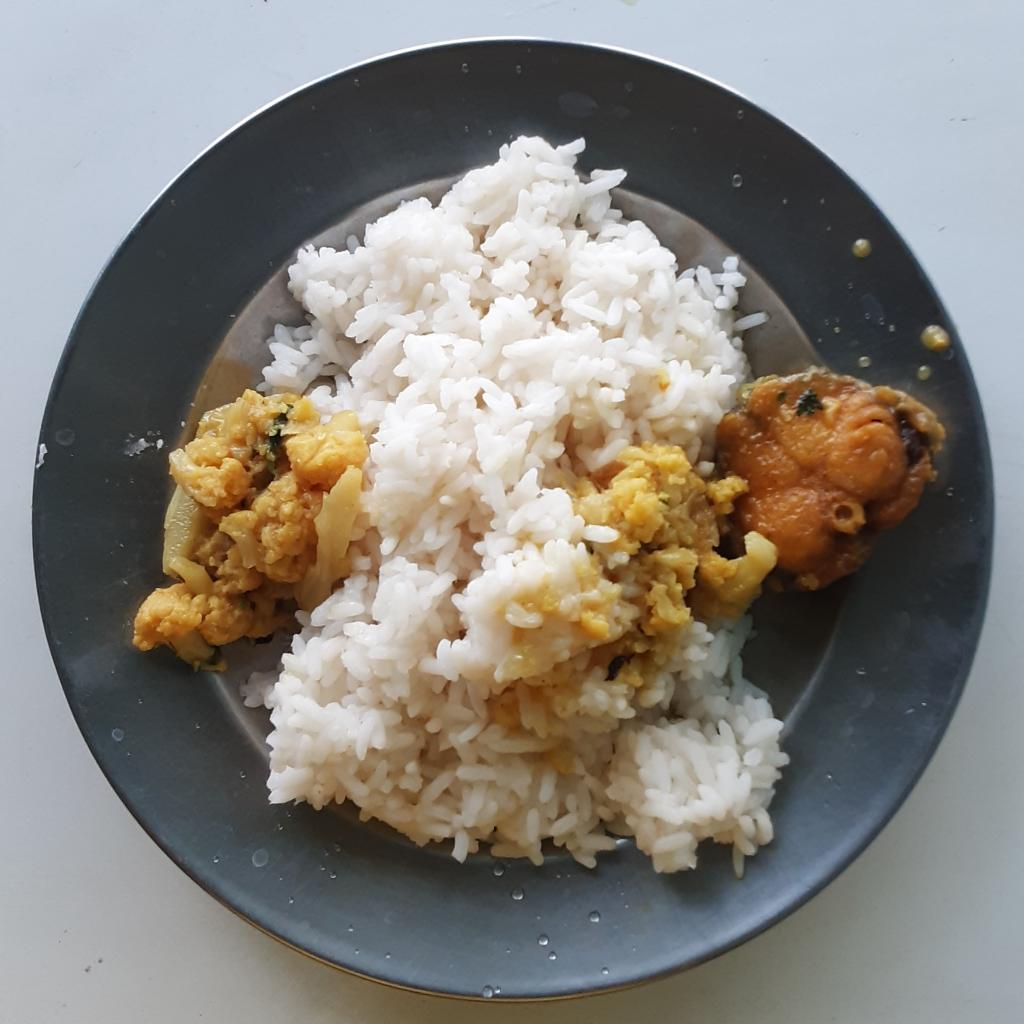cauliflower: (135, 390, 366, 675), (591, 443, 776, 632)
fish: (721, 366, 944, 594)
rice: (228, 135, 786, 874)
